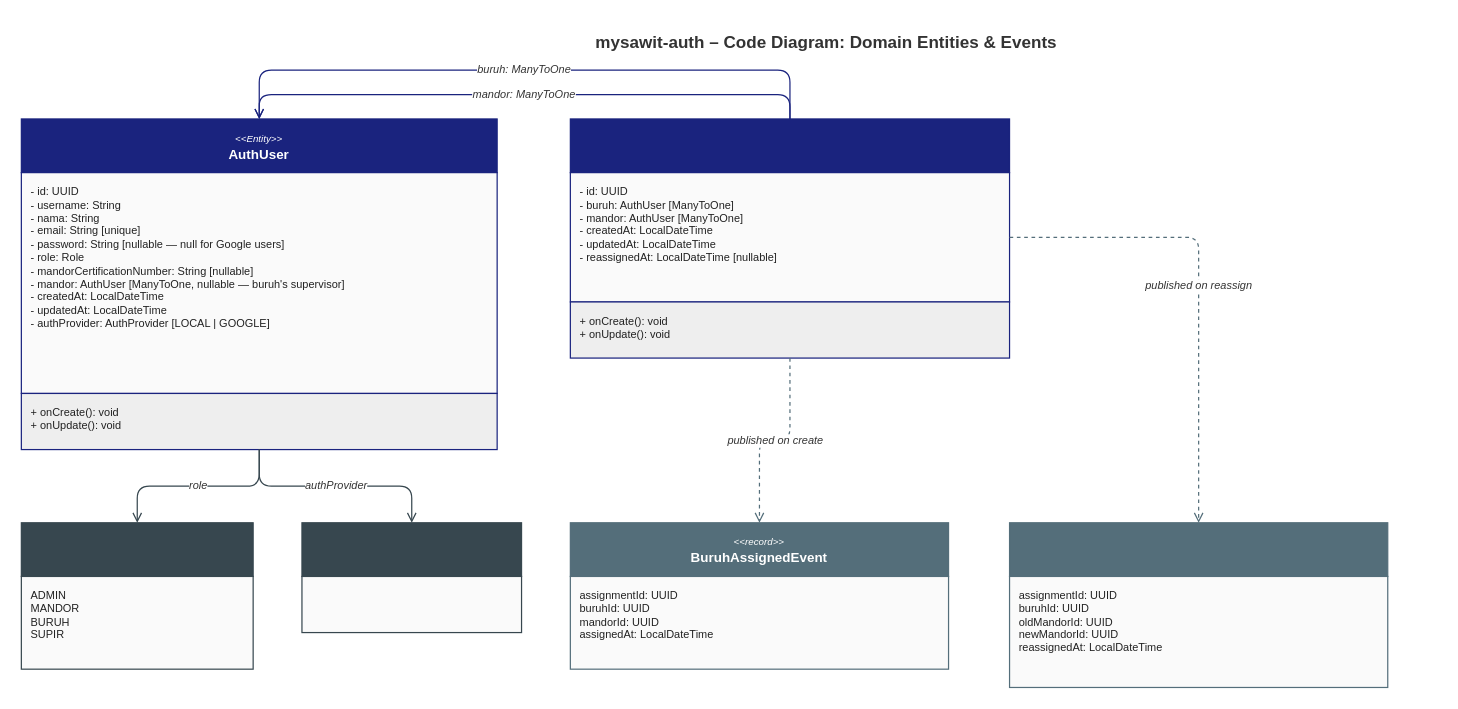
This 1458x709 diagram has some shape labels left out. The centre of each missing label's shape, as x and y in pixels:
"<<Entity>> Assignment" belongs at (x=789, y=145).
"<<enum>> AuthProvider" belongs at (x=411, y=549).
"<<enum>> Role" belongs at (x=136, y=549).
"<<record>> BuruhReassignedEvent" belongs at (x=1198, y=549).
"LOCAL GOOGLE" belongs at (x=411, y=604).
